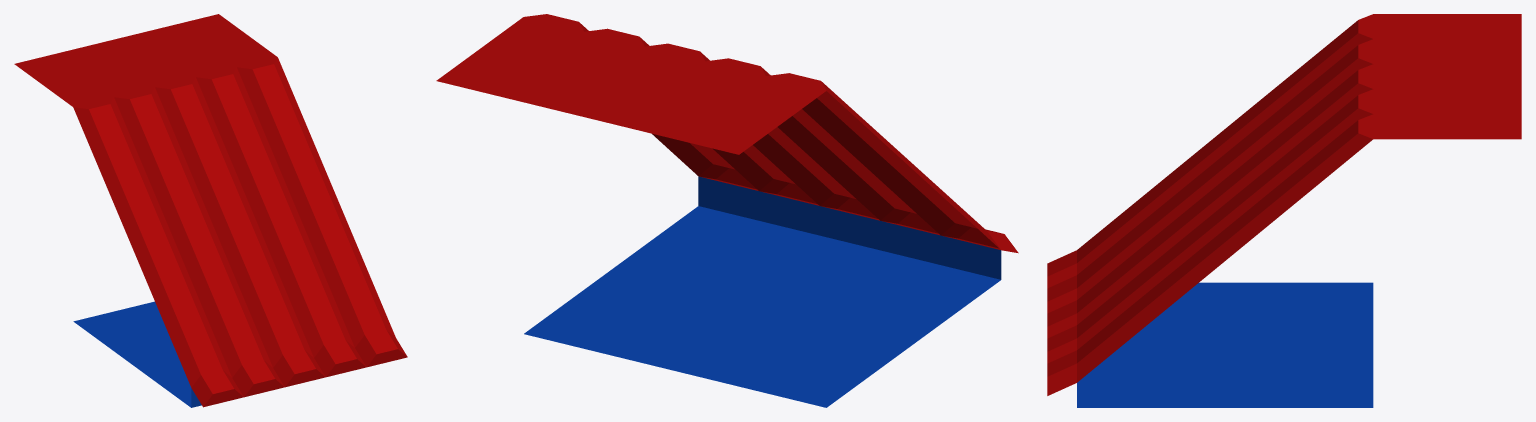
File: Roof2M.fbx
The picture shows the model from 3 angles, left to right: view 1: azimuth 30°, elevation 25°; view 2: azimuth 150°, elevation 25°; view 3: azimuth 270°, elevation 25°; orthographic projection. The views are drawn at different scales.
Parts seen in each view (by area): view 1: Roof2M; view 2: Roof2M; view 3: Roof2M.
Boxes of the visible parts, x1,y1,x2,y2 form: Roof2M: (14, 14, 407, 407); Roof2M: (436, 14, 1018, 407); Roof2M: (1047, 14, 1521, 407).
Size of the model in its own units: 200 by 200 by 320.
